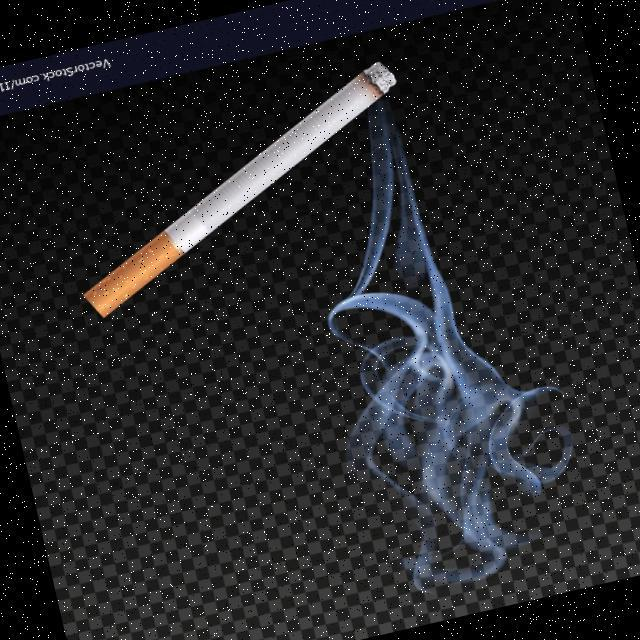cigarette: (33, 39, 442, 334)
